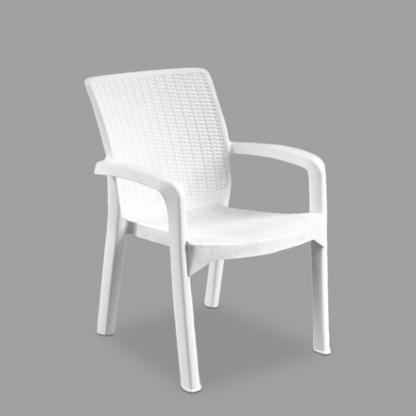chair: (79, 70, 341, 396)
